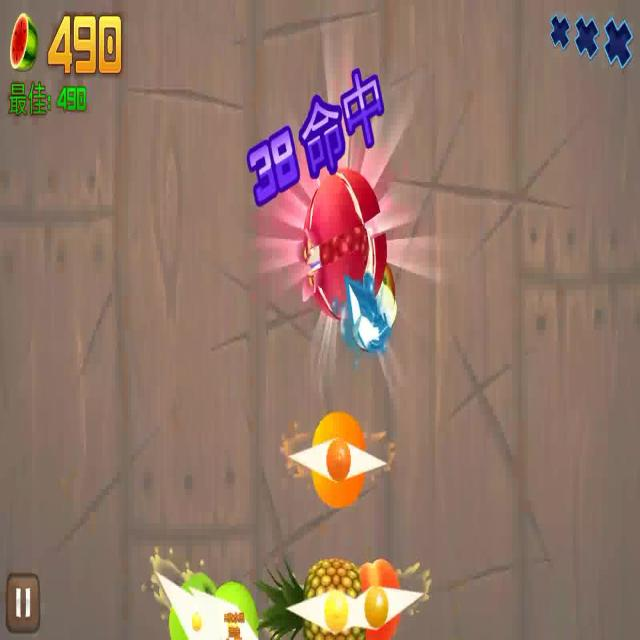fruit: (302, 169, 390, 315), (255, 560, 361, 639), (311, 412, 365, 504), (358, 557, 398, 640), (168, 575, 216, 638), (217, 578, 259, 639)
